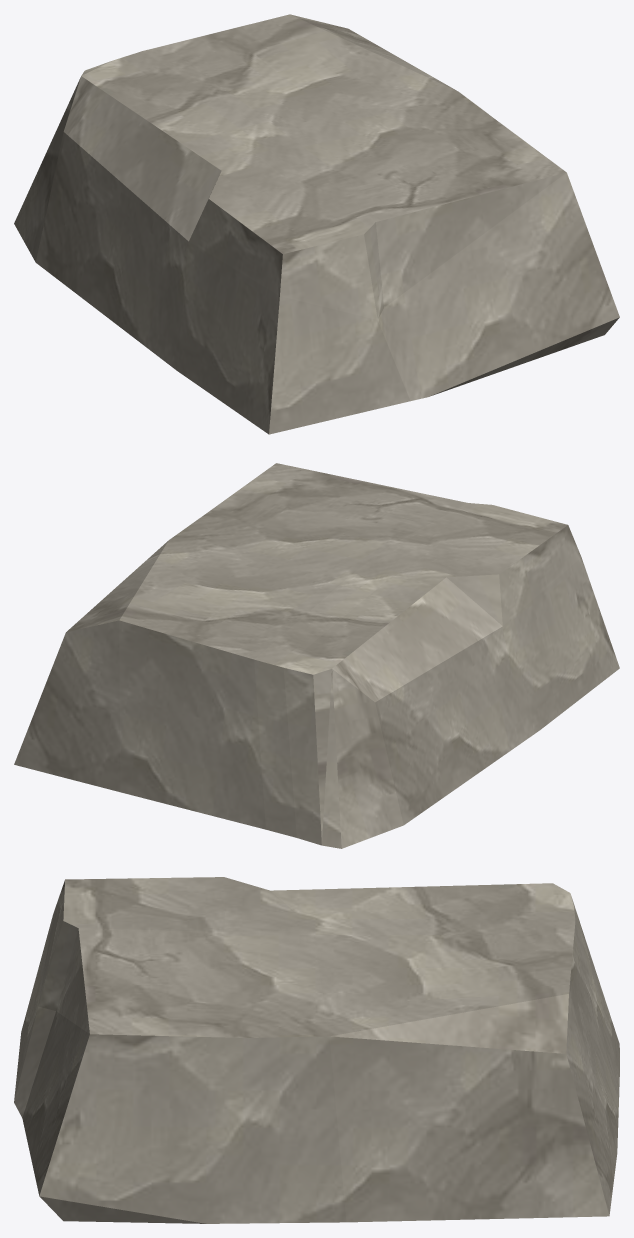
Rendered from gpebble_square_5.glb.
3 views of the same model, one above another, from view 1: azimuth 30°, elevation 25°; view 2: azimuth 150°, elevation 25°; view 3: azimuth 270°, elevation 25° (orthographic). The views are drawn at different scales.
Visible parts, largest first — view 1: model; view 2: model; view 3: model.
Boxes of the visible parts, x1,y1,x2,y2 form: model: (14,14,619,434); model: (14,463,619,848); model: (14,877,619,1223).
Size of the model in its own units: 0.3586 by 0.1564 by 0.4647.
1 material, 1 textured.
